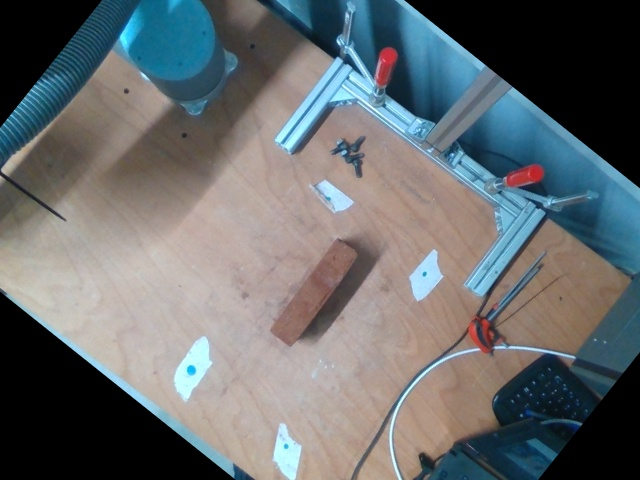brick-side: (267, 237, 360, 350)
